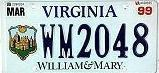placa de veiculo: (2, 0, 158, 73)
